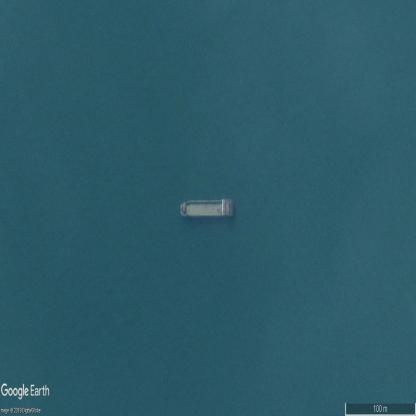ship: (179, 197, 235, 221)
